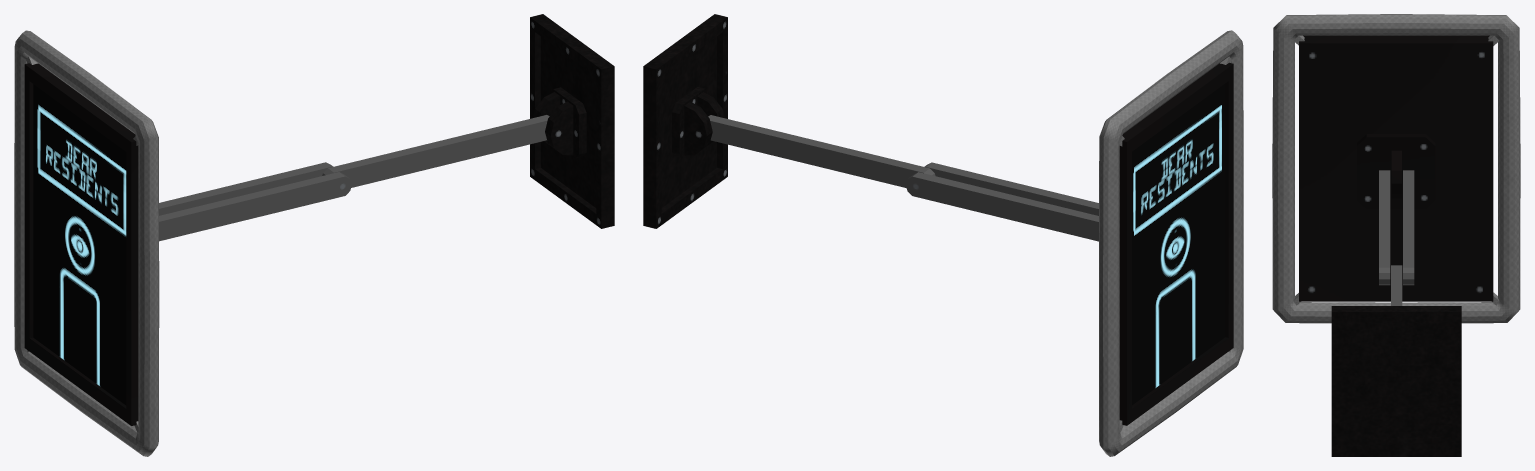
Rendered from ass_07_PCmonitor.fbx.
The picture shows the model from 3 angles, left to right: view 1: azimuth 30°, elevation 25°; view 2: azimuth 150°, elevation 25°; view 3: azimuth 270°, elevation 25°; orthographic projection. The views are drawn at different scales.
Visible parts, largest first — view 1: frame_deco1, mount_piece_4, connecting_arm_pair_4, connecting_arm_pair_3; view 2: frame_deco1, mount_piece_4, connecting_arm_pair_4, connecting_arm_pair_3; view 3: frame_deco1, mount_piece_4, connecting_arm_pair_4, connecting_arm_pair_3.
Part boxes in pixels (bbox=[...]): frame_deco1: bbox=[14, 30, 159, 456]; mount_piece_4: bbox=[530, 14, 614, 228]; connecting_arm_pair_4: bbox=[159, 162, 351, 241]; connecting_arm_pair_3: bbox=[322, 115, 549, 187]; frame_deco1: bbox=[1099, 30, 1243, 456]; mount_piece_4: bbox=[643, 14, 727, 228]; connecting_arm_pair_4: bbox=[905, 162, 1098, 241]; connecting_arm_pair_3: bbox=[708, 115, 935, 187]; frame_deco1: bbox=[1272, 14, 1520, 323]; mount_piece_4: bbox=[1331, 306, 1461, 456]; connecting_arm_pair_4: bbox=[1379, 170, 1414, 285]; connecting_arm_pair_3: bbox=[1391, 265, 1402, 305].
Size of the model in its own units: 271 by 176 by 128.
5 materials, 5 textured.
